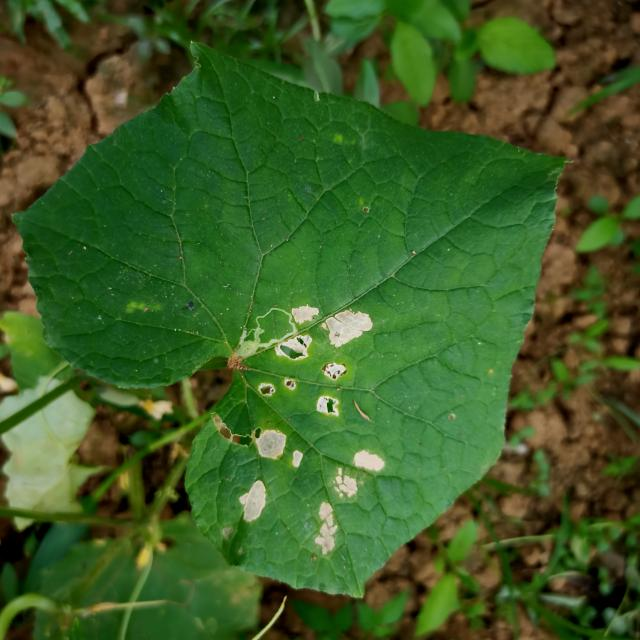disease_cucumber: (278, 304, 372, 417), (316, 451, 383, 556), (239, 429, 302, 522)
